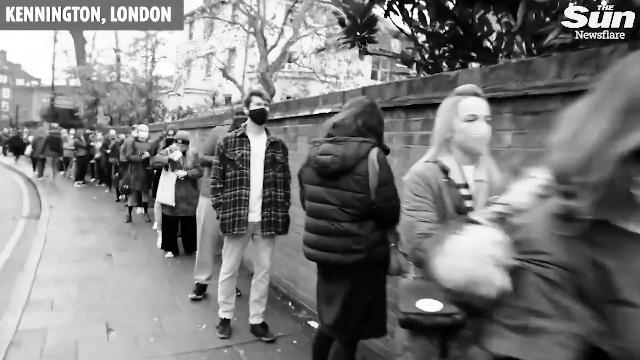berdiri: (296, 74, 414, 360), (206, 88, 284, 338), (155, 128, 207, 264)
